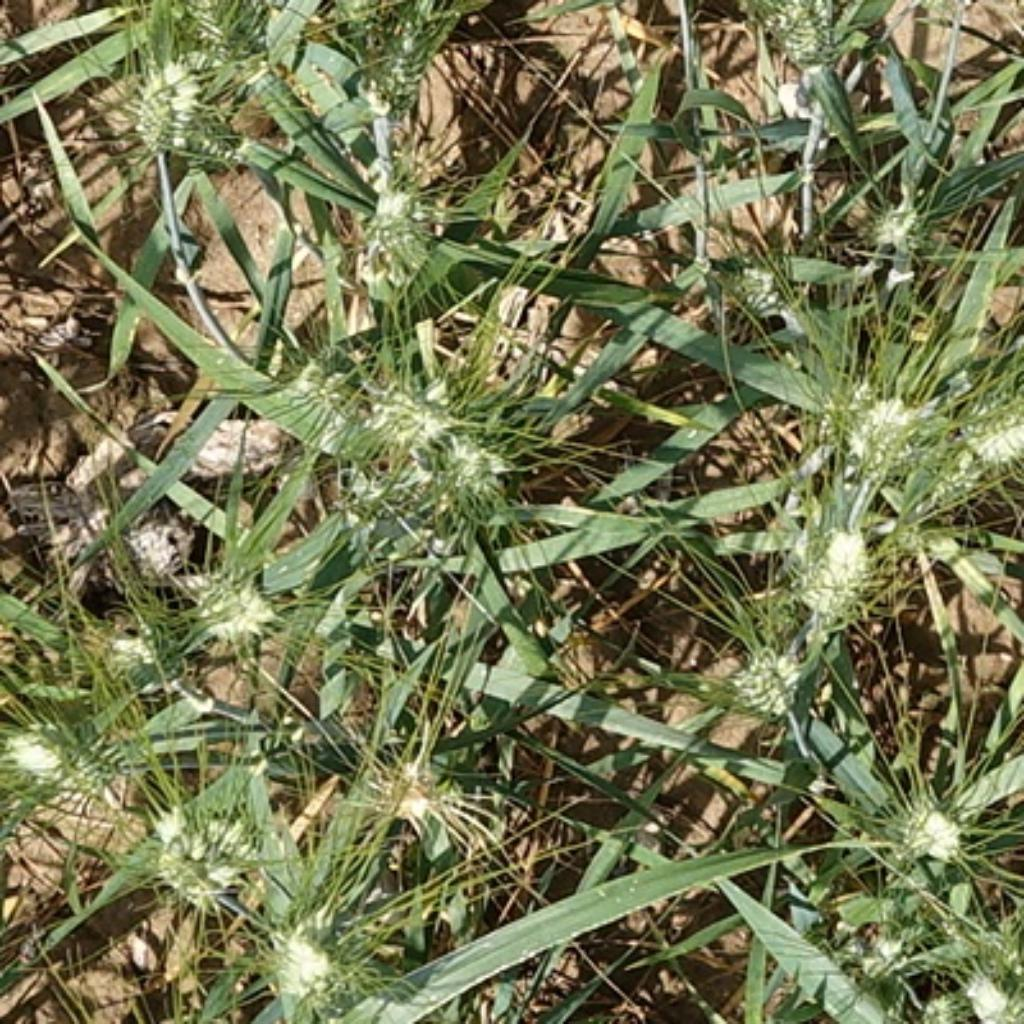0-0: (816, 368, 954, 478), (151, 798, 273, 911), (348, 742, 478, 837), (48, 601, 181, 691), (11, 717, 140, 804), (345, 0, 450, 104), (294, 332, 389, 444), (798, 513, 887, 631), (803, 903, 929, 983), (688, 235, 796, 322), (176, 550, 276, 642), (122, 56, 212, 158), (706, 632, 814, 716), (427, 422, 529, 509), (872, 778, 972, 865), (350, 168, 437, 268), (171, 0, 284, 76), (263, 919, 353, 1013), (952, 360, 1024, 471), (363, 376, 448, 465), (327, 465, 414, 550), (757, 0, 847, 66), (860, 184, 931, 253)
